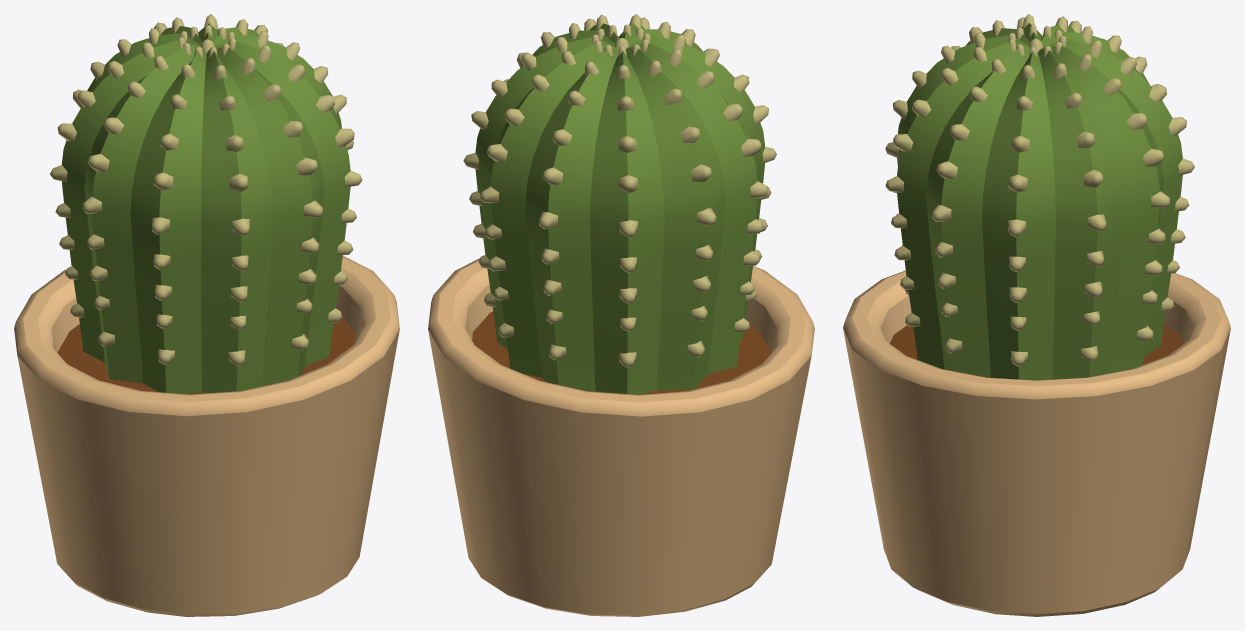
File: Plant.fbx
3 views of the same model, side by side, from view 1: azimuth 30°, elevation 25°; view 2: azimuth 150°, elevation 25°; view 3: azimuth 270°, elevation 25° (orthographic).
Visible parts, largest first — view 1: Plant; view 2: Plant; view 3: Plant.
Boxes of the visible parts, bbox=[...] form: Plant: bbox=[14, 14, 399, 616]; Plant: bbox=[428, 14, 814, 616]; Plant: bbox=[843, 14, 1230, 616].
Size of the model in its own units: 0.1272 by 0.1876 by 0.1274.
